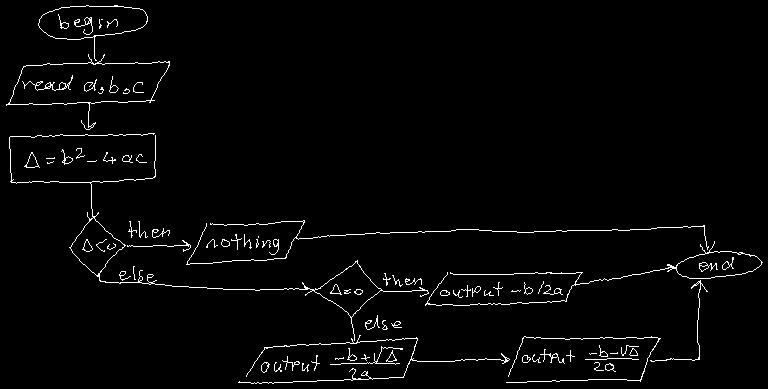arrow: (296, 225, 714, 253), (98, 273, 313, 295), (650, 280, 707, 361), (575, 264, 676, 285), (411, 353, 509, 363), (127, 240, 190, 251), (88, 35, 104, 64), (380, 287, 428, 296), (87, 182, 98, 219), (81, 102, 95, 129), (350, 317, 360, 343)
data: (238, 337, 417, 383), (6, 61, 169, 105), (506, 336, 660, 382), (186, 220, 304, 264), (425, 272, 582, 305)
decision: (313, 260, 381, 318), (69, 216, 125, 276)
process: (9, 133, 155, 183)
terminator: (38, 5, 147, 39), (676, 251, 762, 278)
text: (261, 346, 402, 379), (522, 345, 638, 371), (24, 148, 146, 167), (22, 75, 143, 93), (440, 281, 562, 297), (206, 234, 278, 254), (58, 14, 117, 34), (129, 221, 169, 237), (119, 266, 156, 282), (365, 315, 401, 329), (383, 273, 421, 286), (699, 257, 733, 271), (82, 239, 115, 251), (330, 284, 362, 294), (128, 229, 136, 232)
